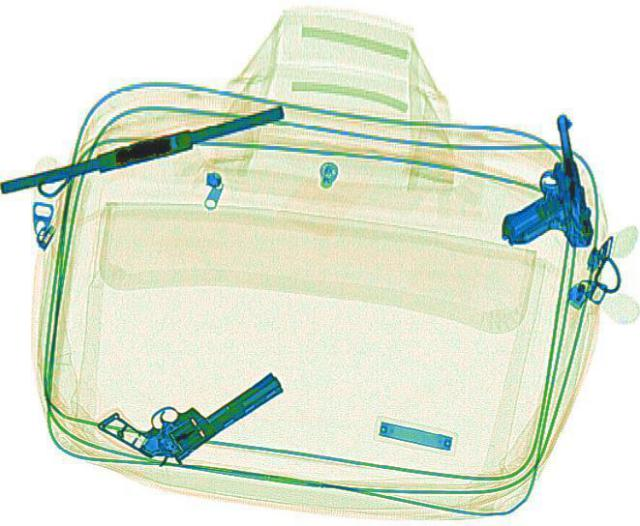Gun: (90, 332, 290, 477), (470, 111, 602, 256)
